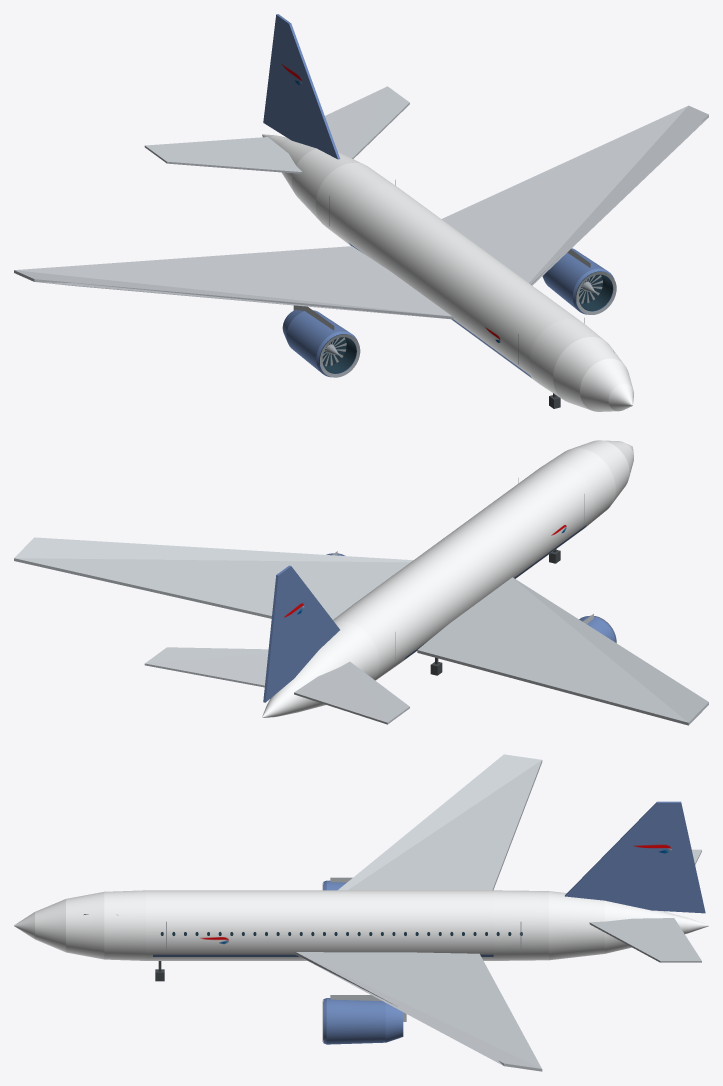
File: b788-BAW-v3.gltf
3 views of the same model, one above another, from view 1: azimuth 30°, elevation 25°; view 2: azimuth 150°, elevation 25°; view 3: azimuth 270°, elevation 25° (orthographic). The views are drawn at different scales.
Visible parts, largest first — view 1: object 1; view 2: object 1; view 3: object 1.
Boxes of the visible parts, left/top/right/bottom form: object 1: left=14, top=14, right=708, bottom=411; object 1: left=14, top=440, right=708, bottom=725; object 1: left=14, top=754, right=708, bottom=1071.
Size of the model in its own units: 60 by 16.41 by 57.
8 materials, 1 textured.
